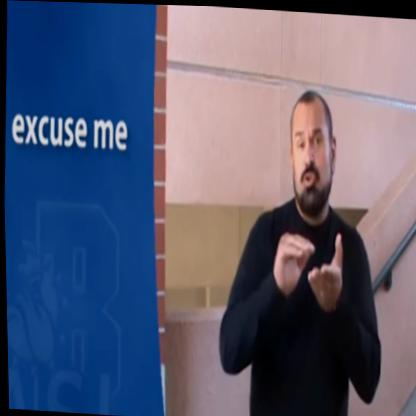ExcuseMe: (267, 203, 351, 314)
